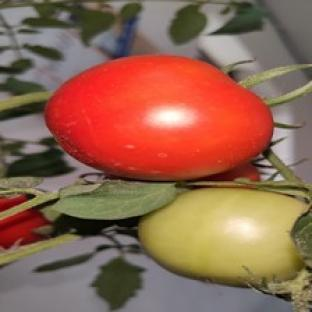Tomato: (45, 55, 272, 181), (138, 189, 307, 286), (0, 209, 48, 247), (198, 163, 260, 181)
